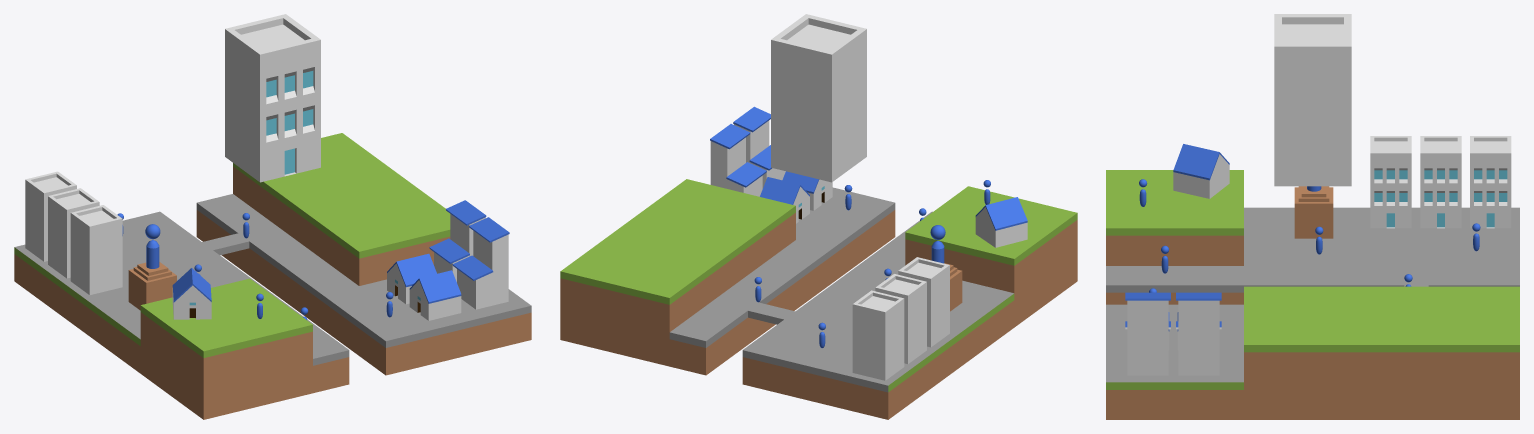
Rendered from grnglb.glb.
3 renders of one model, left to right at view 1: azimuth 30°, elevation 25°; view 2: azimuth 150°, elevation 25°; view 3: azimuth 270°, elevation 25°, orthographic. The views are drawn at different scales.
Visible parts, largest first — view 1: Cube.003, Cube.017, Cube.016, Cube.011, Cube.015, Cube.014, Cube.013, Cube.010, Cube.023, Cube.006, Cube.012; view 2: Cube.003, Cube.017, Cube.014, Cube.013, Cube.016, Cube.015, Cube.023, Cube.011, Cube.012, Cube.010, Cube.006; view 3: Cube.003, Cube.017, Cube.015, Cube.016, Cube.014, Cube.011, Cube.013, Cube.023, Cube.006.
Part boxes in pixels (bbox=[...]): Cube.003: bbox=[14, 133, 531, 419]; Cube.017: bbox=[225, 14, 320, 182]; Cube.016: bbox=[70, 205, 122, 294]; Cube.011: bbox=[452, 217, 509, 309]; Cube.015: bbox=[48, 188, 99, 278]; Cube.014: bbox=[25, 171, 76, 261]; Cube.013: bbox=[429, 200, 486, 281]; Cube.010: bbox=[409, 270, 461, 320]; Cube.023: bbox=[172, 268, 211, 319]; Cube.006: bbox=[128, 262, 176, 310]; Cube.012: bbox=[387, 253, 436, 304]; Cube.003: bbox=[560, 179, 1077, 419]; Cube.017: bbox=[771, 14, 866, 182]; Cube.014: bbox=[852, 290, 904, 380]; Cube.013: bbox=[710, 124, 766, 196]; Cube.016: bbox=[898, 257, 949, 347]; Cube.015: bbox=[875, 274, 926, 363]; Cube.023: bbox=[975, 197, 1027, 247]; Cube.011: bbox=[733, 106, 785, 188]; Cube.012: bbox=[760, 177, 809, 223]; Cube.010: bbox=[782, 171, 832, 210]; Cube.006: bbox=[944, 263, 962, 311]; Cube.003: bbox=[1106, 170, 1519, 419]; Cube.017: bbox=[1274, 14, 1351, 186]; Cube.015: bbox=[1420, 136, 1461, 228]; Cube.016: bbox=[1370, 136, 1411, 228]; Cube.014: bbox=[1470, 136, 1511, 228]; Cube.011: bbox=[1125, 292, 1170, 375]; Cube.013: bbox=[1176, 292, 1221, 375]; Cube.023: bbox=[1173, 144, 1229, 198]; Cube.006: bbox=[1294, 186, 1333, 238].
Bounding box in the file's own units: 1 × 0.8055 × 1.
